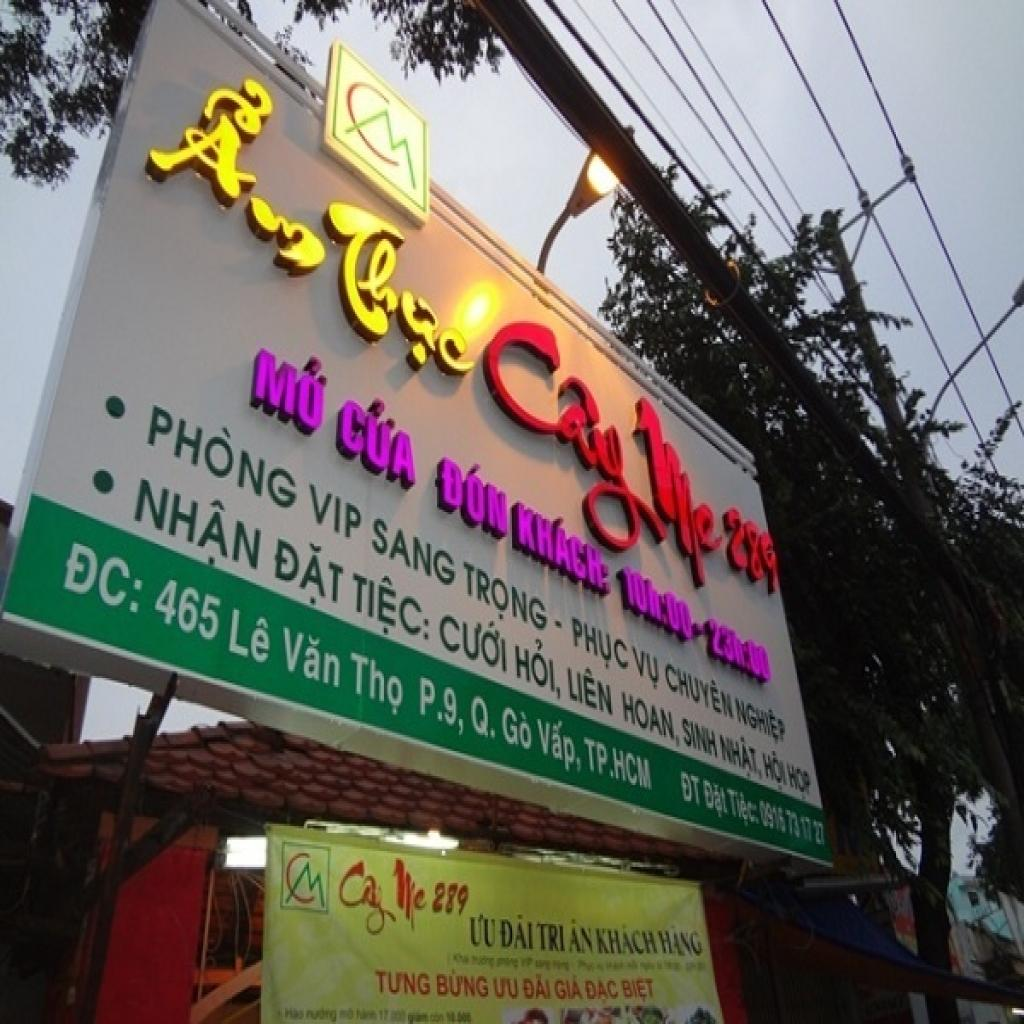text: (450, 289, 682, 589), (136, 59, 356, 291), (305, 166, 490, 396), (630, 384, 732, 610), (145, 392, 304, 514), (130, 469, 264, 587), (512, 487, 614, 601), (336, 382, 420, 492), (251, 326, 331, 440), (348, 560, 434, 658), (430, 442, 510, 542), (268, 526, 346, 621), (462, 560, 550, 642), (341, 104, 418, 196), (58, 539, 147, 617), (369, 516, 457, 592), (620, 560, 694, 644), (333, 858, 401, 944), (724, 500, 782, 600), (435, 601, 509, 676), (150, 576, 224, 648), (706, 614, 775, 685), (662, 656, 736, 722), (582, 735, 657, 794), (280, 623, 343, 692), (471, 692, 534, 755), (514, 628, 563, 708), (350, 649, 406, 719), (534, 710, 587, 783), (307, 480, 365, 546), (574, 614, 632, 680), (758, 797, 828, 851), (621, 690, 683, 748), (391, 856, 428, 949), (418, 674, 468, 740), (734, 692, 788, 751), (228, 605, 274, 669), (566, 658, 614, 719), (718, 724, 766, 785), (283, 860, 328, 913), (596, 922, 660, 956), (372, 967, 434, 999), (437, 965, 491, 1001), (654, 924, 708, 958), (430, 878, 473, 920), (681, 717, 720, 762), (726, 785, 762, 831), (761, 744, 792, 797), (632, 644, 662, 694), (498, 913, 536, 951), (785, 762, 814, 808), (702, 778, 732, 822), (582, 976, 623, 1008), (566, 915, 596, 958), (618, 974, 657, 1006), (468, 913, 498, 951), (536, 922, 567, 954), (552, 972, 586, 1001), (678, 769, 703, 808), (522, 972, 553, 1001), (492, 976, 522, 1001)
